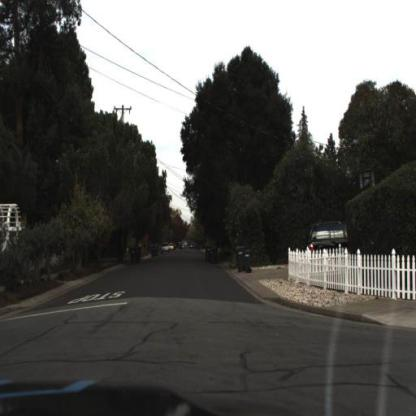car: (306, 218, 352, 256), (162, 243, 171, 254)
